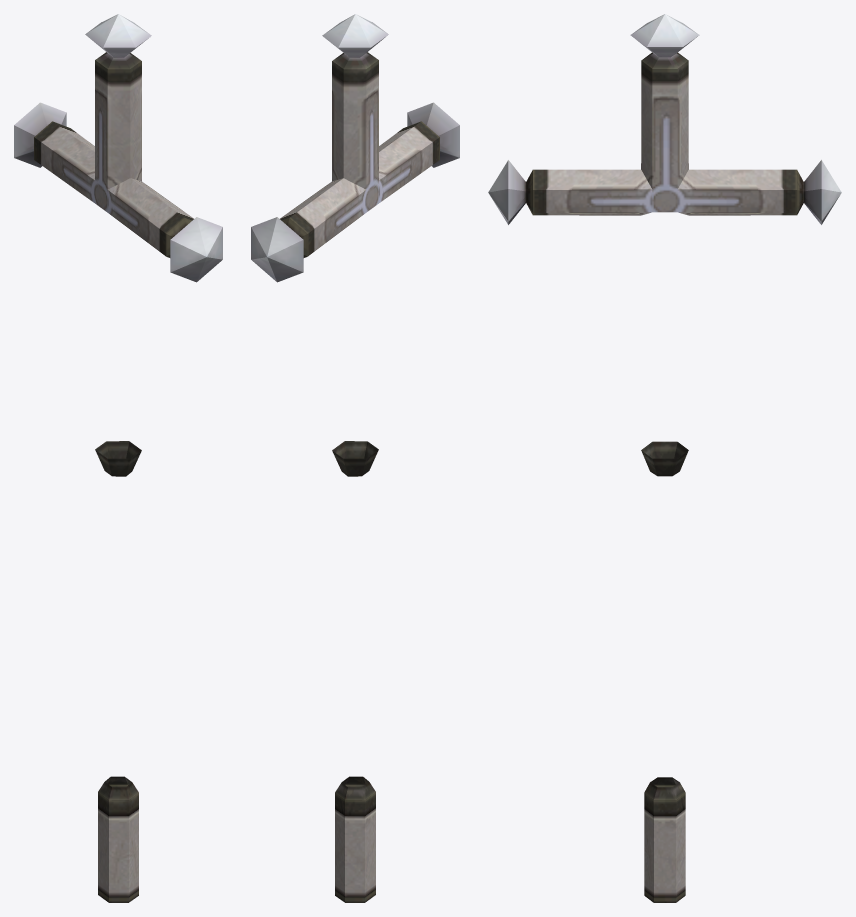
The model's file is Whale_partisanWeapon_Lance.obj.
3 views of the same model, side by side, from view 1: azimuth 30°, elevation 25°; view 2: azimuth 150°, elevation 25°; view 3: azimuth 270°, elevation 25° (orthographic).
Parts seen in each view (by area): view 1: Whale_partisanWeapon_tri [Lance]; view 2: Whale_partisanWeapon_tri [Lance]; view 3: Whale_partisanWeapon_tri [Lance].
Part boxes in pixels (x1,y1,x2,y2): Whale_partisanWeapon_tri [Lance]: (14, 14, 222, 902); Whale_partisanWeapon_tri [Lance]: (251, 14, 459, 902); Whale_partisanWeapon_tri [Lance]: (488, 14, 841, 902).
Bounding box in the file's own units: 0.1634 × 2.64 × 0.9536.
1 material, 1 textured.
